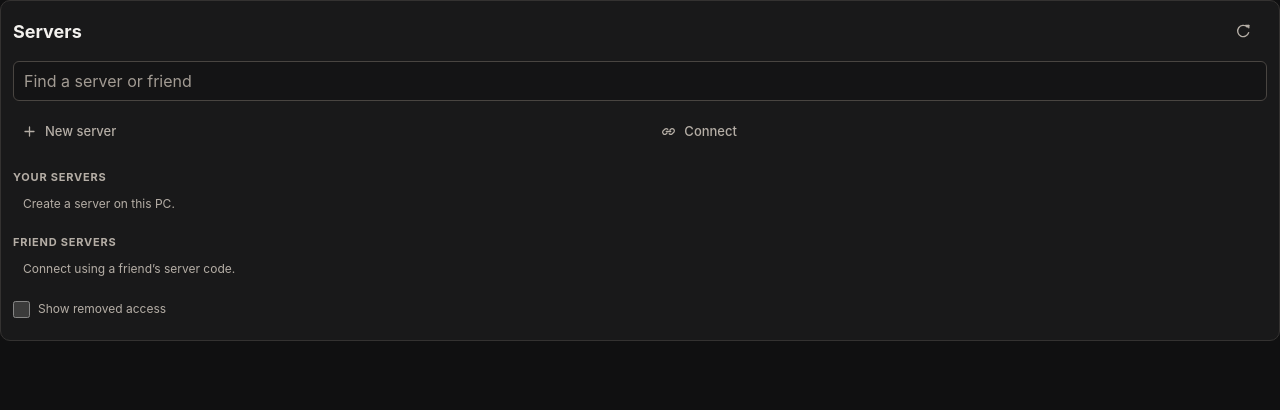
Scenario: one grouped server list › keeps the removed-access checkbox beside its clickable label in a context-sidebar
Expected: the checkbox labelled "Show removed access" is not checked, x1=13 y1=301 x2=30 y2=318
Expected: the button "Open Morgan" is not shown
Click the text "Show removed access". click: x=102, y=310
box: x1=38 y1=301 x2=166 y2=318
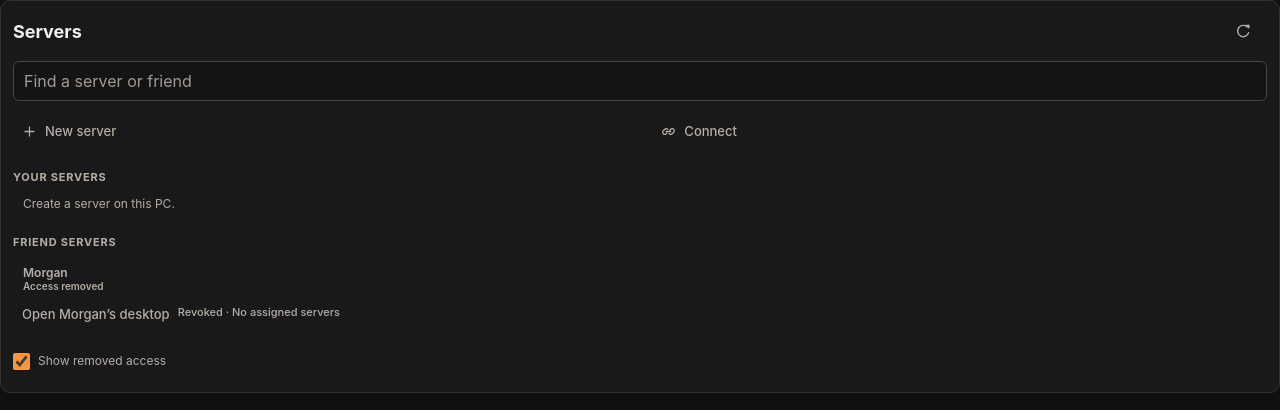
Now the checkbox labelled "Show removed access" is checked, box x1=13 y1=353 x2=30 y2=370
Now the button "Open Morgan’s desktop Revoked · No assigned servers" is shown, box x1=13 y1=296 x2=1267 y2=332
Click the text "Show removed access". click: x=102, y=362
box: x1=38 y1=353 x2=166 y2=370
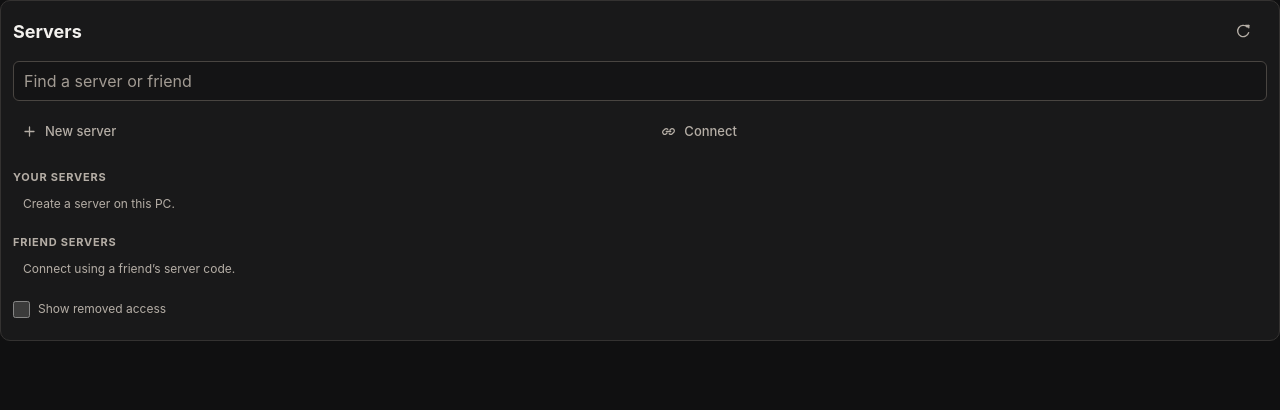
Now the checkbox labelled "Show removed access" is not checked, box x1=13 y1=301 x2=30 y2=318
Now the button "Open Morgan" is gone
